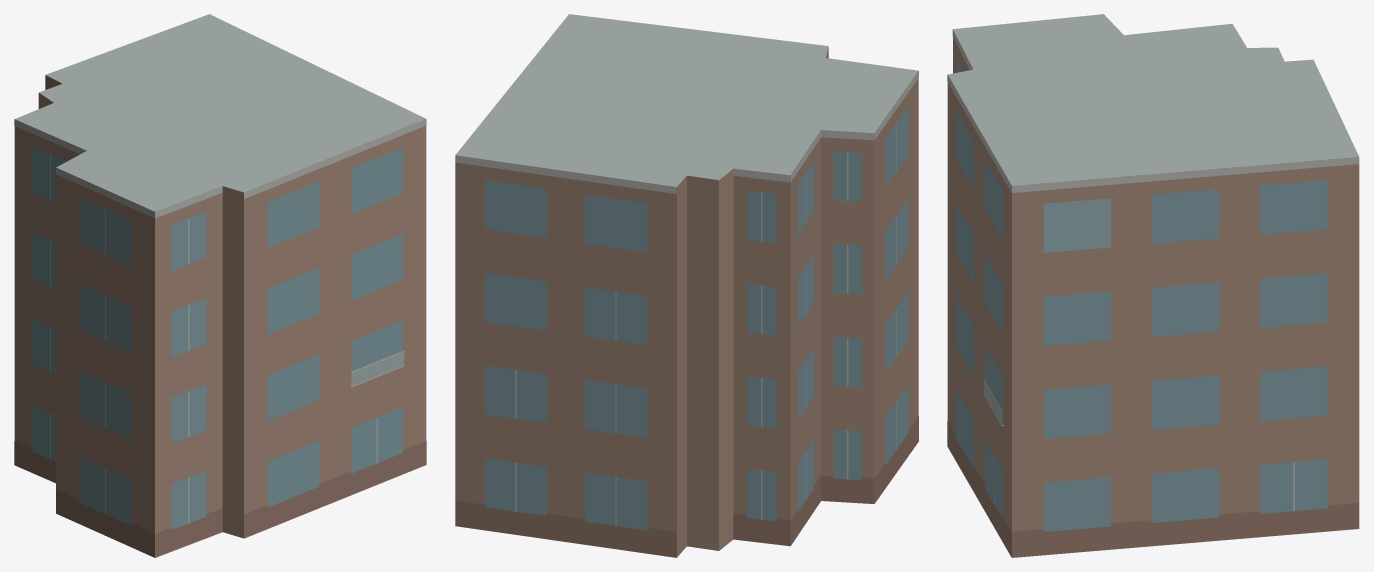
File: survey-upis-32973077.glb
The picture shows the model from 3 angles, left to right: view 1: azimuth 30°, elevation 25°; view 2: azimuth 150°, elevation 25°; view 3: azimuth 270°, elevation 25°; orthographic projection. The views are drawn at different scales.
Visible parts, largest first — view 1: survey-upis-32973077.tmp; view 2: survey-upis-32973077.tmp; view 3: survey-upis-32973077.tmp.
Part boxes in pixels (x1,y1,x2,y2): survey-upis-32973077.tmp: (14,14,426,557); survey-upis-32973077.tmp: (455,14,918,557); survey-upis-32973077.tmp: (947,14,1359,557).
Size of the model in its own units: 12.5 by 12.6 by 12.65.
